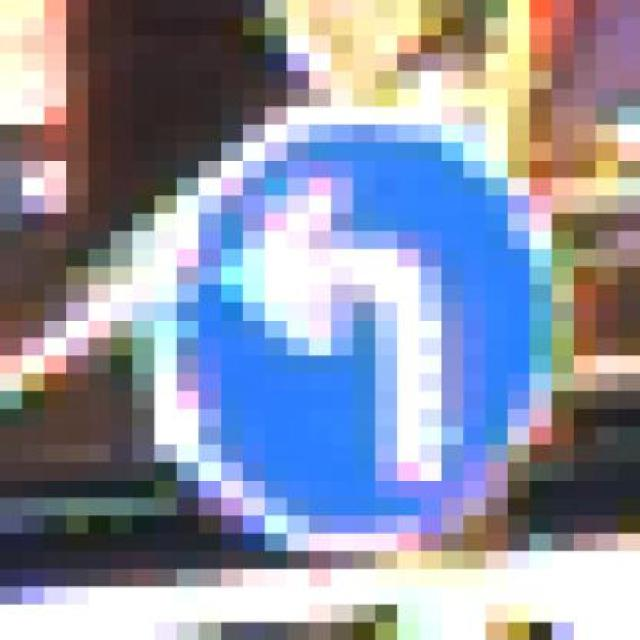Turn left ahead: (132, 89, 596, 586)
